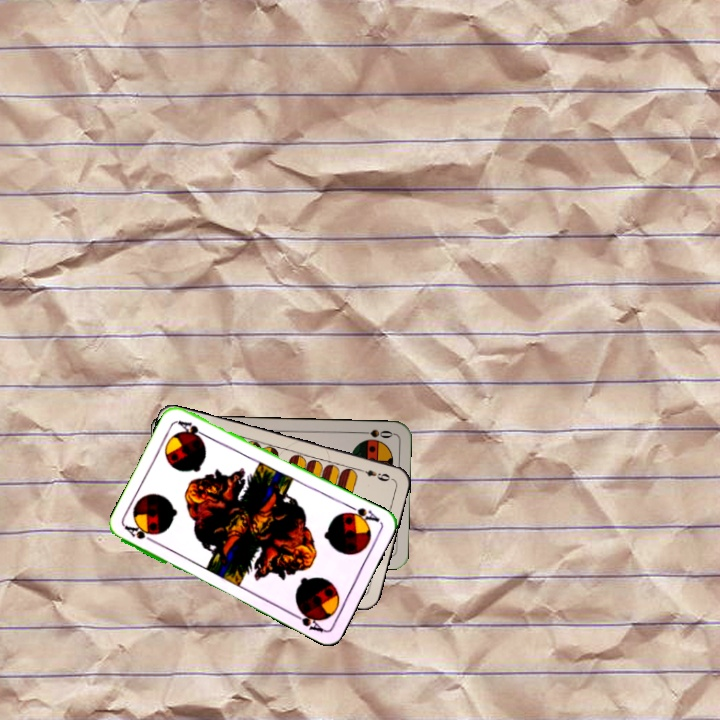E9: (354, 464, 394, 484)
SA: (341, 501, 382, 526), (121, 522, 160, 546)
SO: (355, 425, 395, 441)
